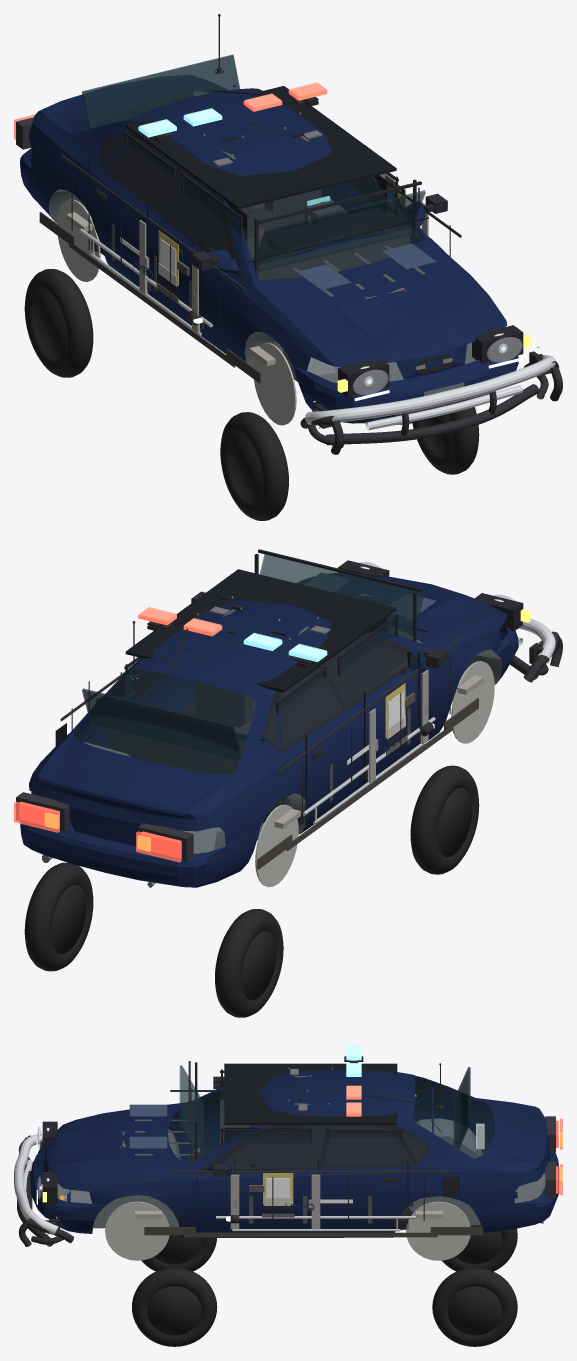
File: hmpd_cruiser_v13b.glb
3 renders of one model, top to bottom at view 1: azimuth 30°, elevation 25°; view 2: azimuth 150°, elevation 25°; view 3: azimuth 270°, elevation 25°, orthographic. The views are drawn at different scales.
Visible parts, largest first — view 1: Body.002, v11_int_head, windshield_v10, rearglass_v10, v13_tire_FR, v13_tire_RR, pushbar_upper, dash_main, v11_sidewall_1, pushbar_lower, v11_sidewall_3, v11_dash_main (+20 smaller); view 2: Body.002, v11_int_head, rearglass_v10, windshield_v10, v13_tire_RR, v13_tire_FR, v13_tire_RL, seat_rear_back, v11_sidewall_1, v11_sidewall_3, seat_frontback_R, v13_sidewall_RL_-0.07 (+14 smaller); view 3: Body.002, v11_int_head, v13_tire_FL, v13_tire_RL, v11_sidewall_0, v11_sidewall_2, v13_sidewall_FL_0.07, v13_sidewall_RL_0.07, windshield_v10, dirt_rocker_1, pushbar_upper, v13_sidewall_RR_-0.07 (+18 smaller).
Boxes of the visible parts, <box> form: Body.002: <box>20,75,518,424</box>; v11_int_head: <box>125,86,396,209</box>; windshield_v10: <box>253,190,425,267</box>; rearglass_v10: <box>82,54,239,128</box>; v13_tire_FR: <box>220,412,288,520</box>; v13_tire_RR: <box>24,269,93,377</box>; pushbar_upper: <box>305,355,555,424</box>; dash_main: <box>210,205,410,278</box>; v11_sidewall_1: <box>253,342,296,425</box>; pushbar_lower: <box>326,384,538,445</box>; v11_sidewall_3: <box>57,199,100,281</box>; v11_dash_main: <box>257,237,402,279</box>; Body.002: <box>20,573,518,887</box>; v11_int_head: <box>125,569,396,692</box>; rearglass_v10: <box>82,688,241,762</box>; windshield_v10: <box>259,554,425,640</box>; v13_tire_RR: <box>215,909,283,1017</box>; v13_tire_FR: <box>410,765,479,874</box>; v13_tire_RL: <box>24,862,93,971</box>; seat_rear_back: <box>109,726,282,805</box>; v11_sidewall_1: <box>451,661,494,743</box>; v11_sidewall_3: <box>255,804,298,887</box>; seat_frontback_R: <box>196,681,253,727</box>; v13_sidewall_RL_-0.07: <box>51,884,86,953</box>; Body.002: <box>30,1069,559,1237</box>; v11_int_head: <box>224,1063,397,1124</box>; v13_tire_FL: <box>132,1267,217,1346</box>; v13_tire_RL: <box>432,1267,517,1346</box>; v11_sidewall_0: <box>105,1201,169,1260</box>; v11_sidewall_2: <box>406,1201,470,1260</box>; v13_sidewall_FL_0.07: <box>147,1286,201,1335</box>; v13_sidewall_RL_0.07: <box>447,1286,502,1335</box>; windshield_v10: <box>179,1065,203,1157</box>; dirt_rocker_1: <box>183,1232,437,1237</box>; pushbar_upper: <box>14,1134,58,1235</box>; v13_sidewall_RR_-0.07: <box>455,1224,502,1264</box>.
Size of what is drawn, in the model's own units: 2.06 by 2.69 by 5.08.
